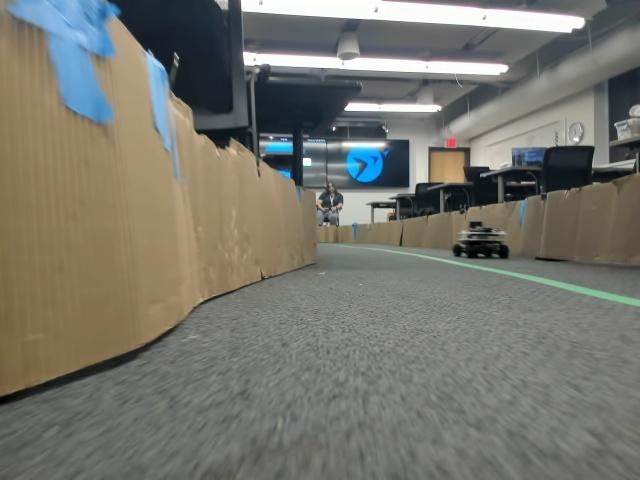Car: (451, 221, 508, 258)
